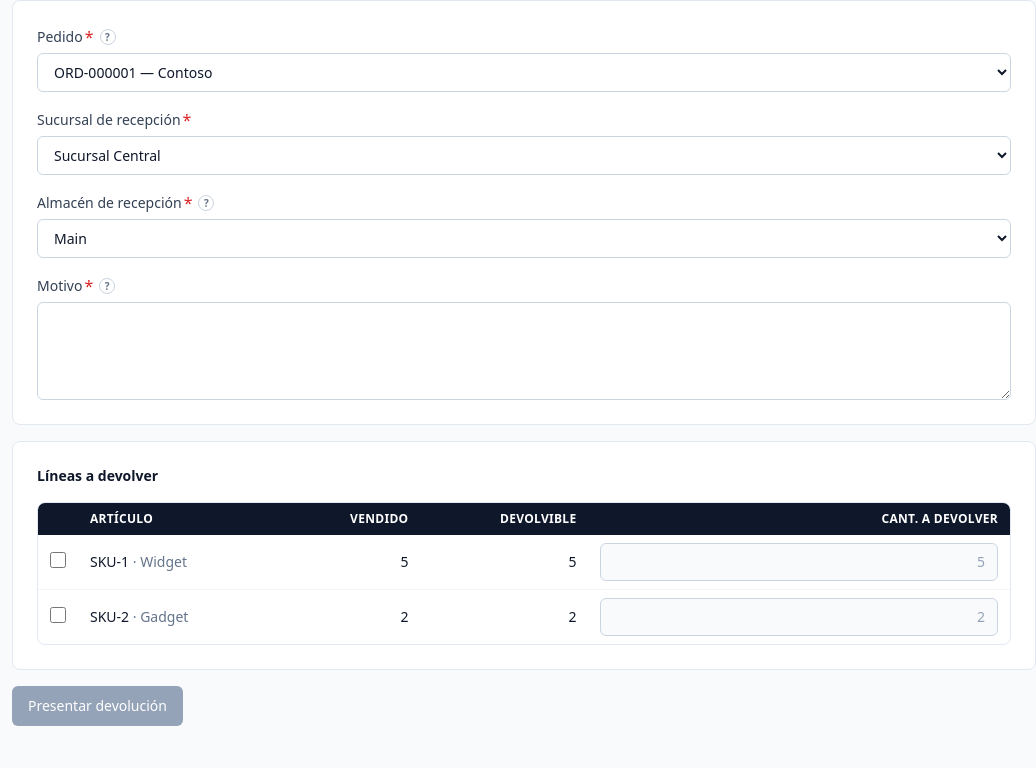
it: ReturnForm › defaults to the first sucursal/almacén, and re-scopes the almacén when the sucursal changes
The image size is (1036, 768).
expect the text "SKU-1" is shown: met, box [90, 552, 129, 571]
expect the dropdown labelled "Almacén de recepción" shows "Main": met, box [37, 219, 1011, 258]
Select "Sucursal Norte" in the dropdown labelled "Sucursal de recepción" at (524, 156), box [37, 136, 1011, 175]
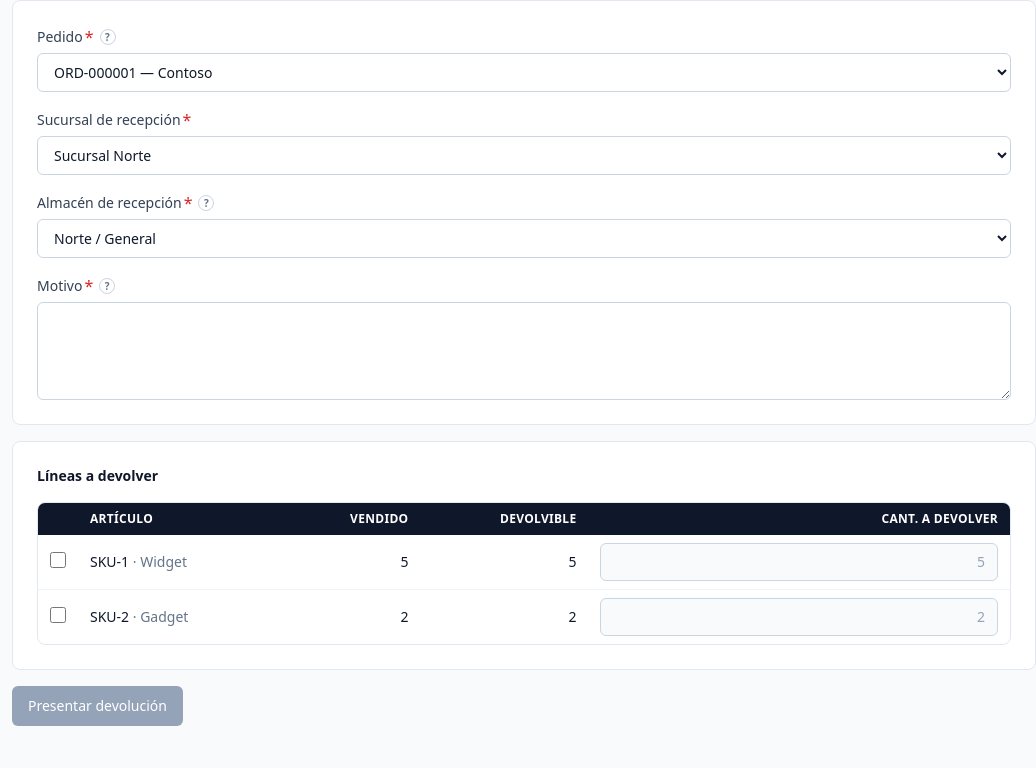
expect the option "Main" is not shown: met
expect the dropdown labelled "Almacén de recepción" shows "Norte / General": met, box [37, 219, 1011, 258]
